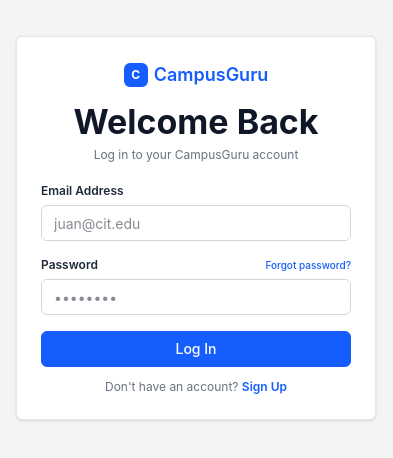
Test case: LoginPage › shows validation errors on empty submit
Step 1. Click the button "Log In" → (196, 349), box [41, 331, 351, 367]
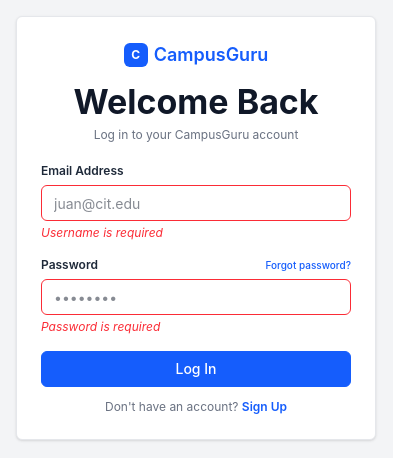
Now the text "Username is required" is shown, box [41, 225, 163, 240]
Now the text "Password is required" is shown, box [41, 319, 160, 334]
